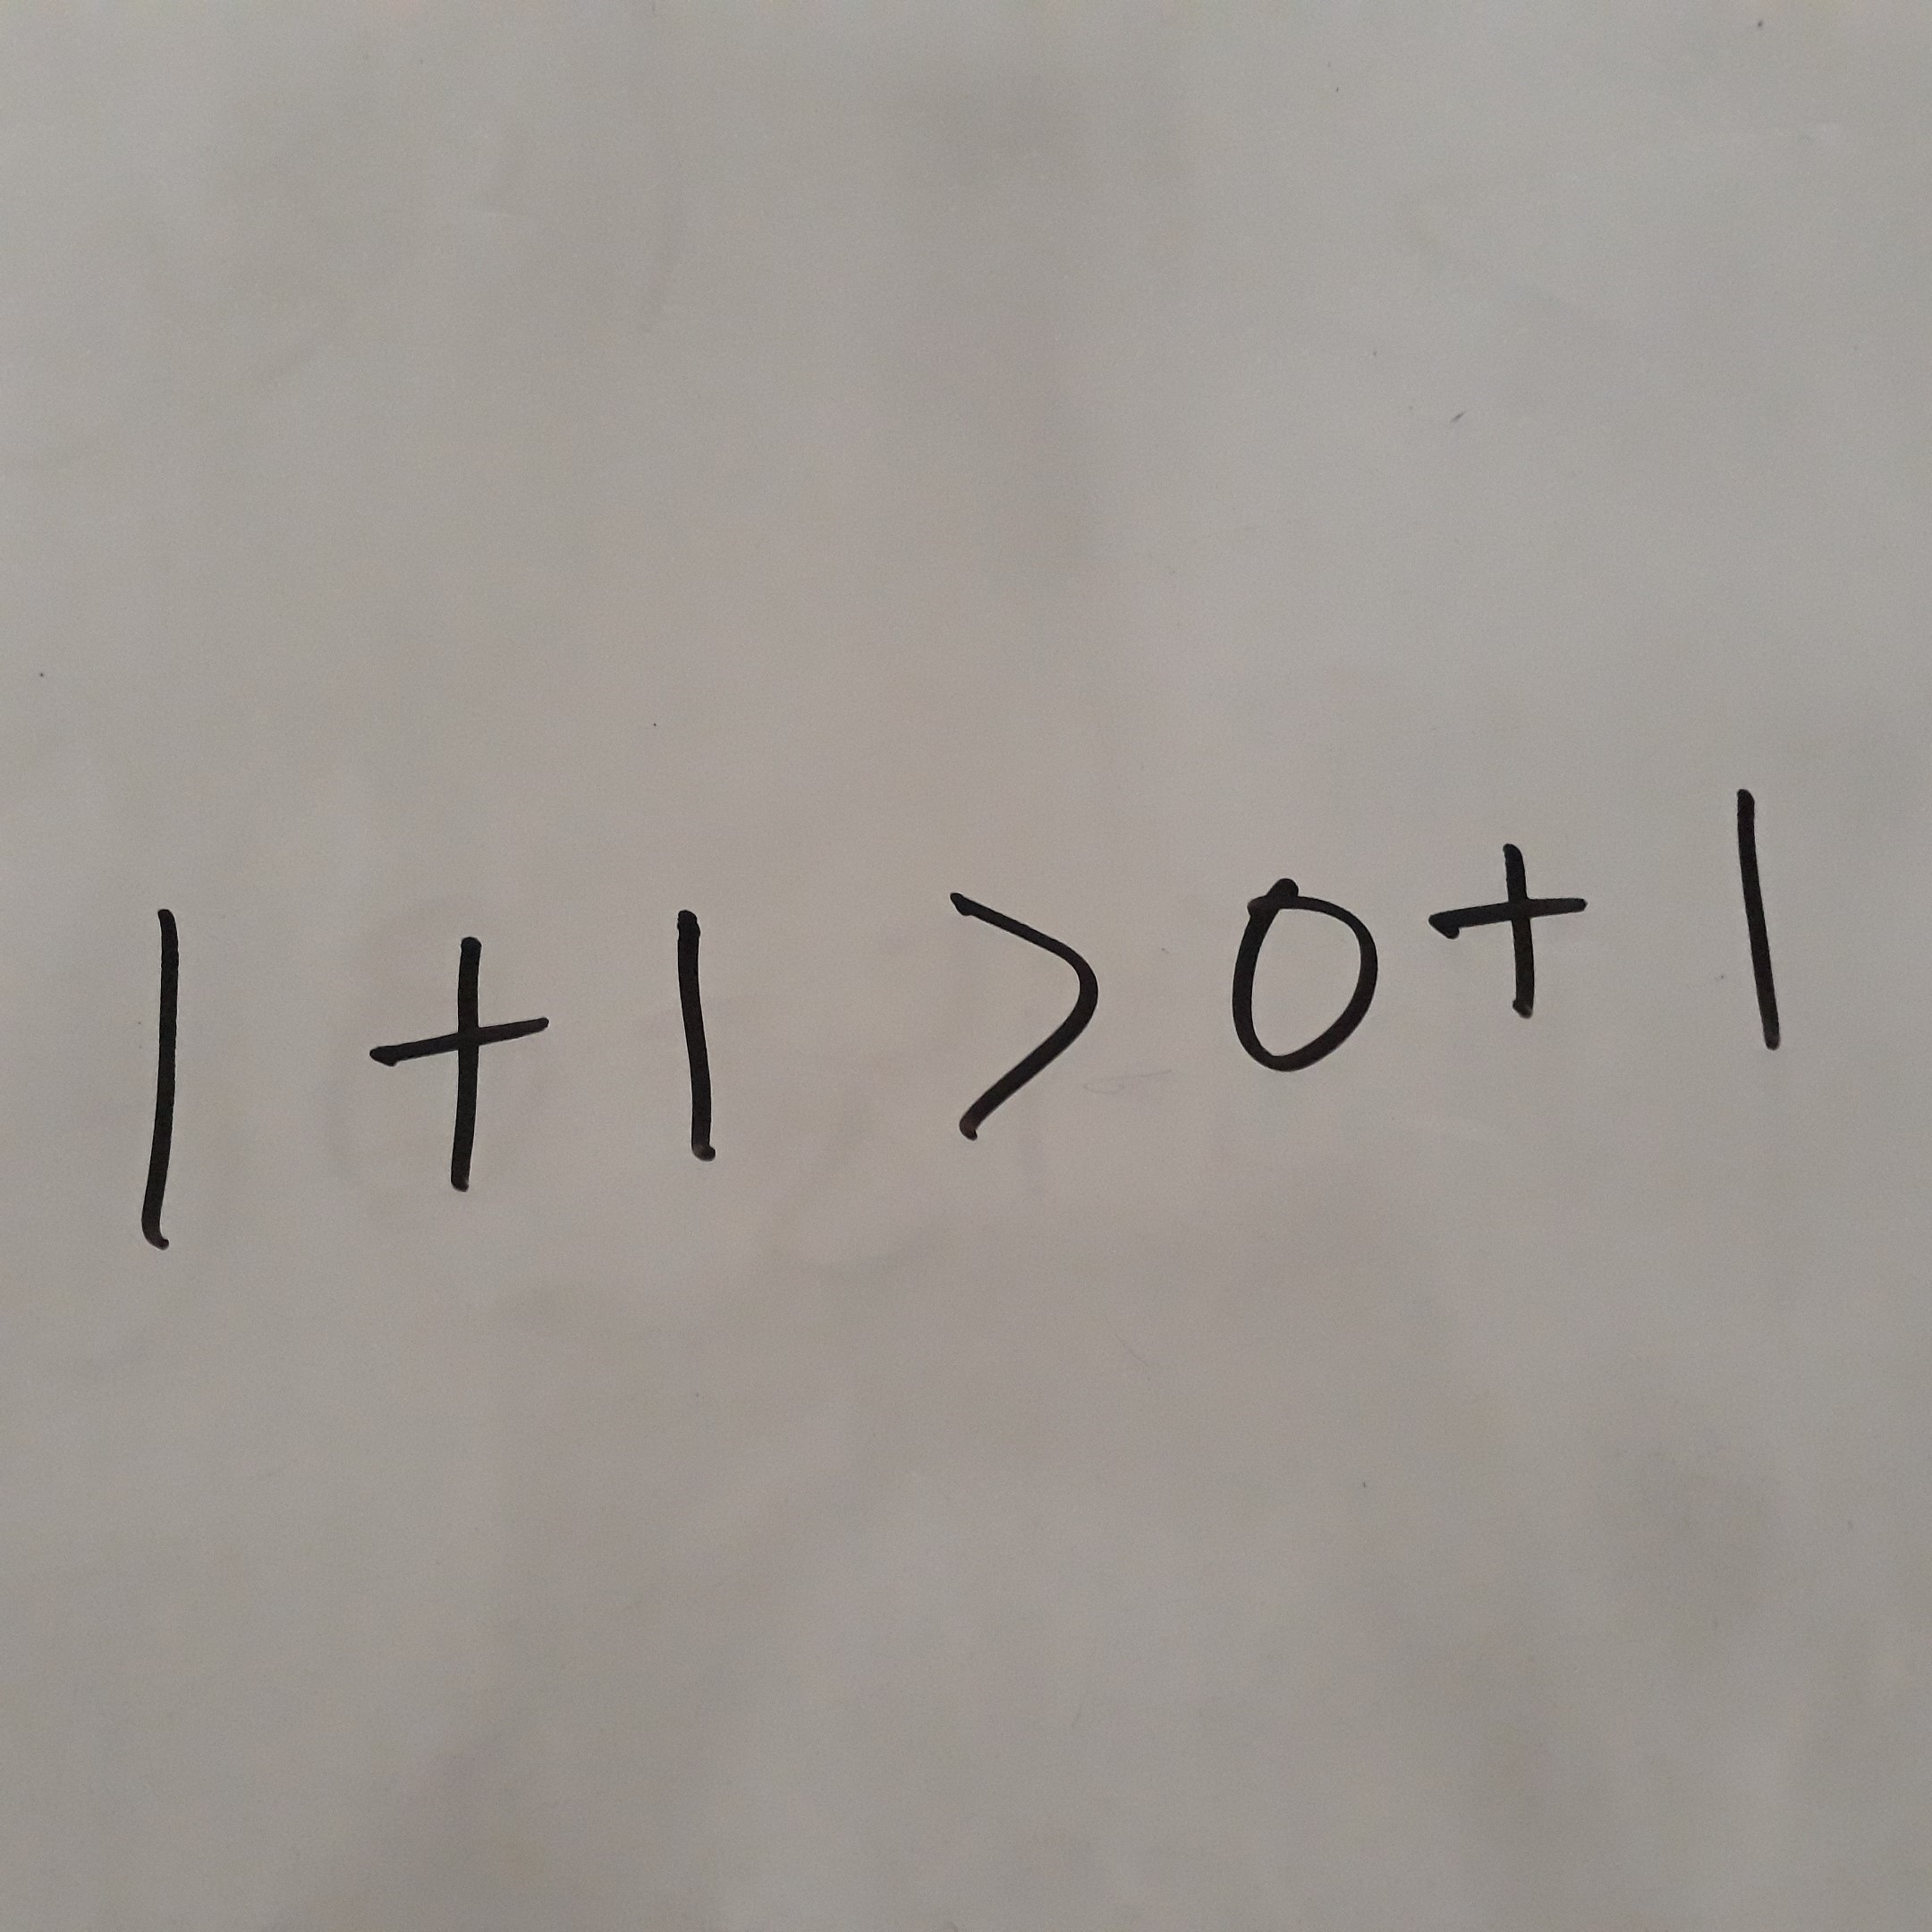morethan: (928, 853, 1116, 1152)
num0: (1212, 871, 1388, 1095)
num1: (120, 895, 203, 1258), (637, 883, 734, 1181), (1722, 767, 1802, 1069)
sum: (360, 914, 557, 1214), (1422, 809, 1598, 1033)
